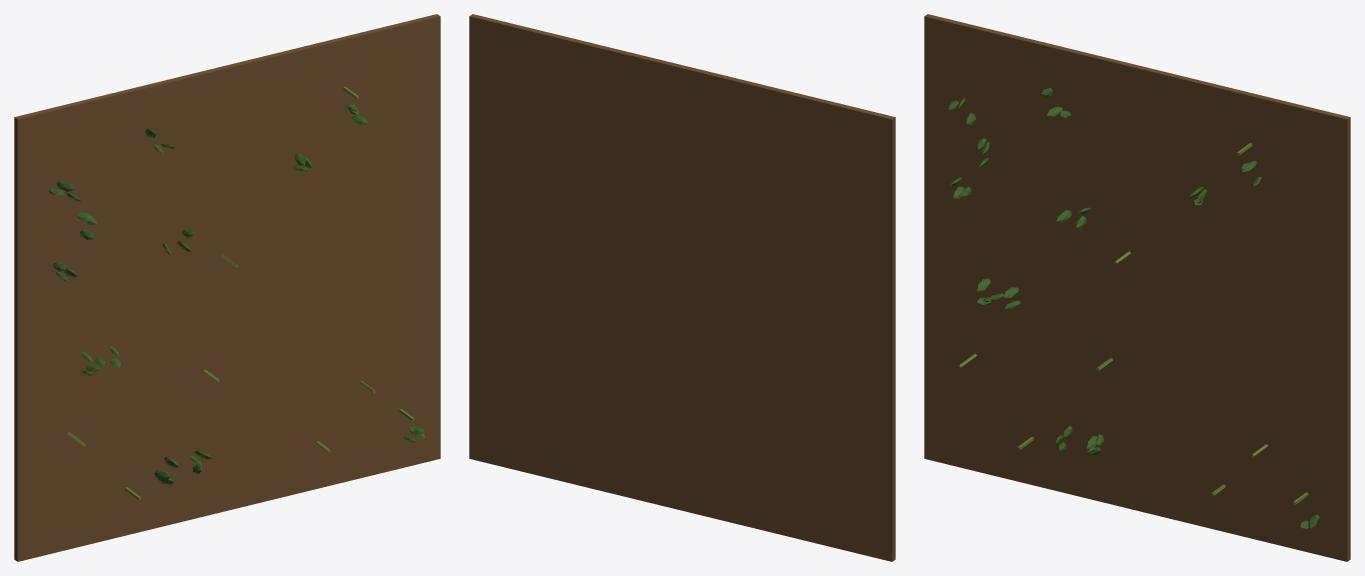
Rendered from patch_weeded.obj.
3 views of the same model, side by side, from view 1: azimuth 30°, elevation 25°; view 2: azimuth 150°, elevation 25°; view 3: azimuth 330°, elevation 25° (orthographic).
Visible parts, largest first — view 1: patch_weeded; view 2: patch_weeded; view 3: patch_weeded.
Boxes of the visible parts, x1,y1,x2,y2 form: patch_weeded: (14,14,440,561); patch_weeded: (469,14,895,561); patch_weeded: (924,14,1350,561).
Size of the model in its own units: 1.5 by 1.5 by 0.1184.
